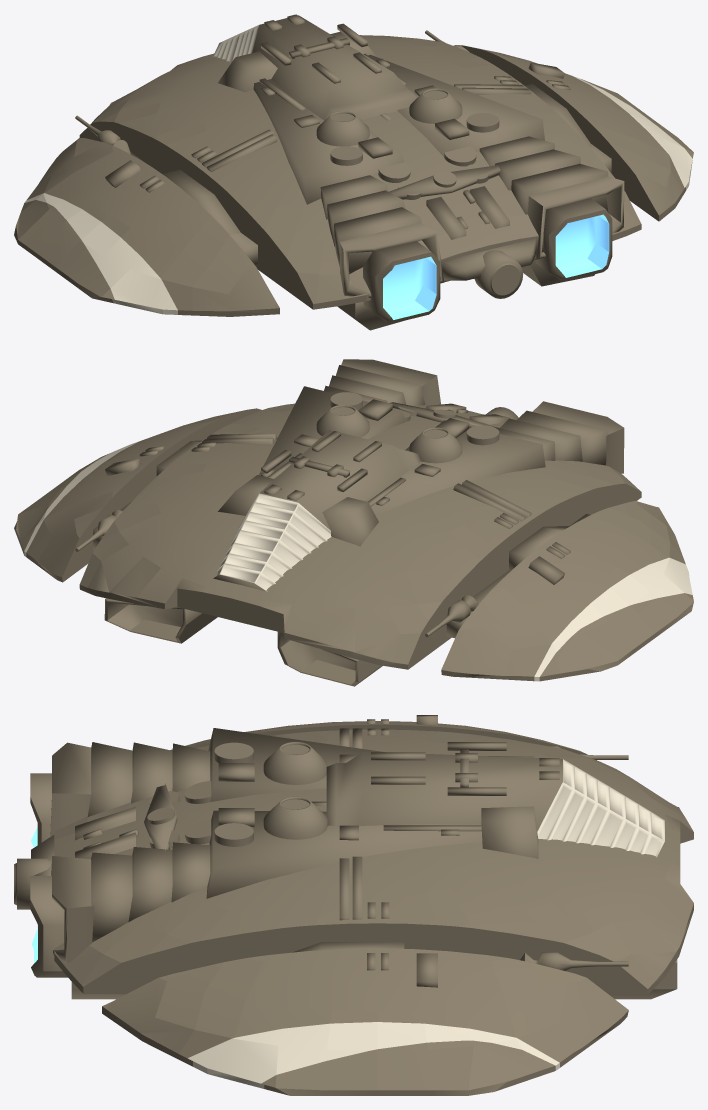
Rendered from ClassicCylonRider.fbx.
3 views of the same model, one above another, from view 1: azimuth 30°, elevation 25°; view 2: azimuth 150°, elevation 25°; view 3: azimuth 270°, elevation 25° (orthographic). The views are drawn at different scales.
Parts seen in each view (by area): view 1: Cylon raider_classic; view 2: Cylon raider_classic; view 3: Cylon raider_classic.
Part boxes in pixels (x1,y1,x2,y2): Cylon raider_classic: (14,14,693,330); Cylon raider_classic: (14,359,693,686); Cylon raider_classic: (14,715,693,1095).
Size of the model in its own units: 1465 by 325 by 1189.
